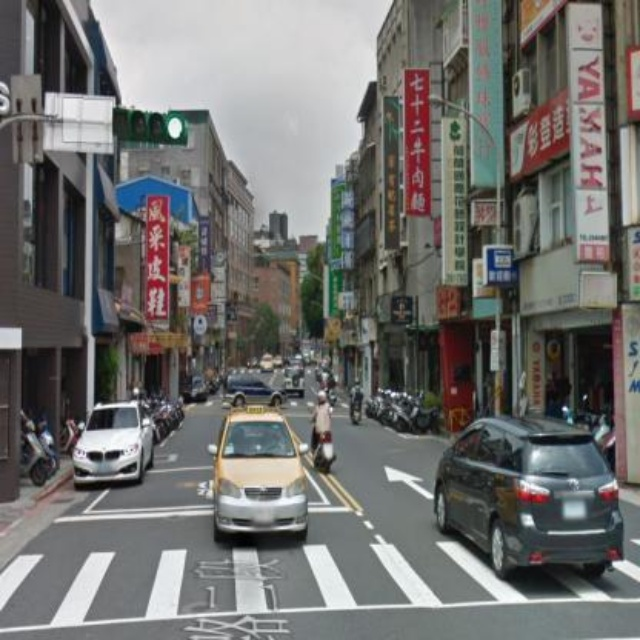Đèn xanh: (113, 104, 188, 142)
